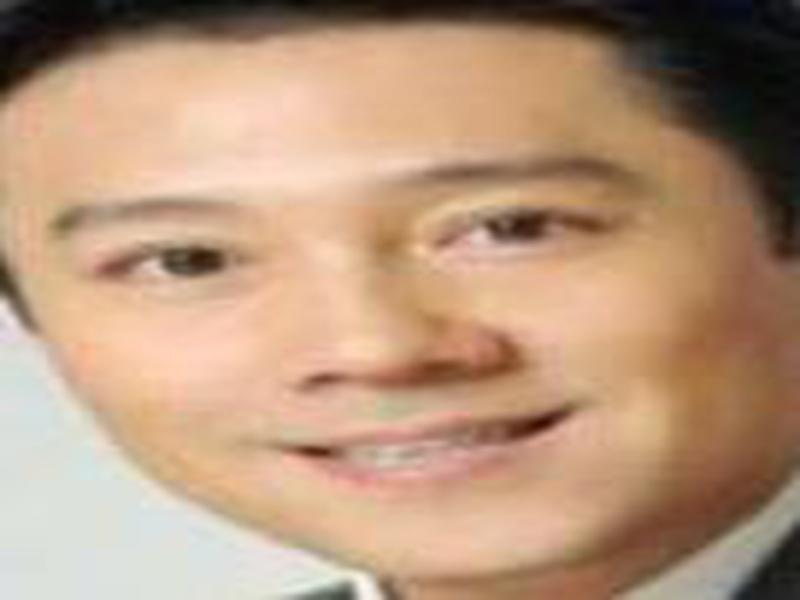without_mask: (1, 55, 765, 580)
